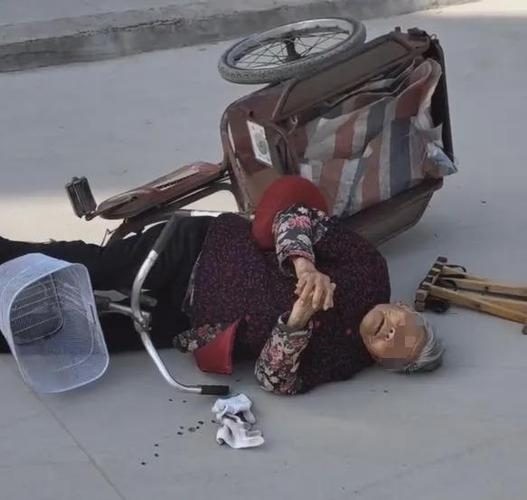falling: (11, 181, 453, 424)
